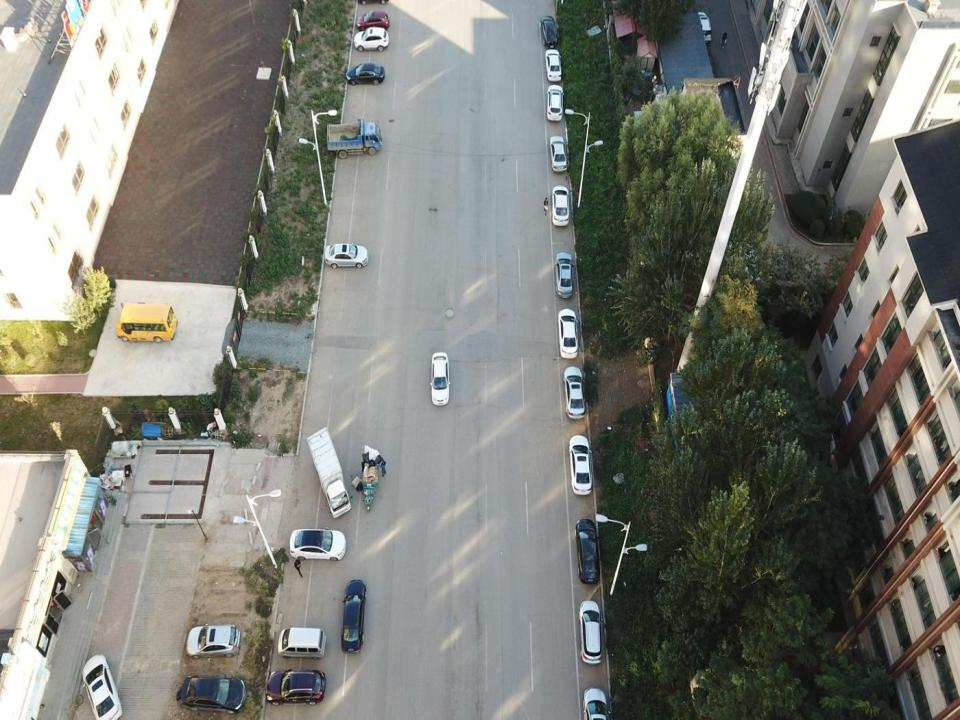car: (178, 674, 246, 718), (81, 654, 123, 719), (265, 670, 326, 708), (290, 528, 346, 562), (340, 579, 366, 652), (185, 625, 240, 658), (578, 597, 603, 664), (569, 435, 593, 496), (575, 519, 598, 581), (323, 241, 370, 268), (562, 367, 585, 418), (557, 308, 579, 360), (430, 352, 450, 406), (583, 687, 610, 719), (355, 9, 390, 33), (346, 64, 384, 86), (354, 29, 388, 53), (555, 253, 572, 298), (552, 184, 568, 229), (548, 136, 568, 172), (546, 84, 564, 120), (544, 48, 561, 82), (539, 14, 556, 48)
truck: (308, 429, 351, 519), (325, 120, 384, 160)
van: (114, 304, 177, 344), (278, 628, 326, 660)
